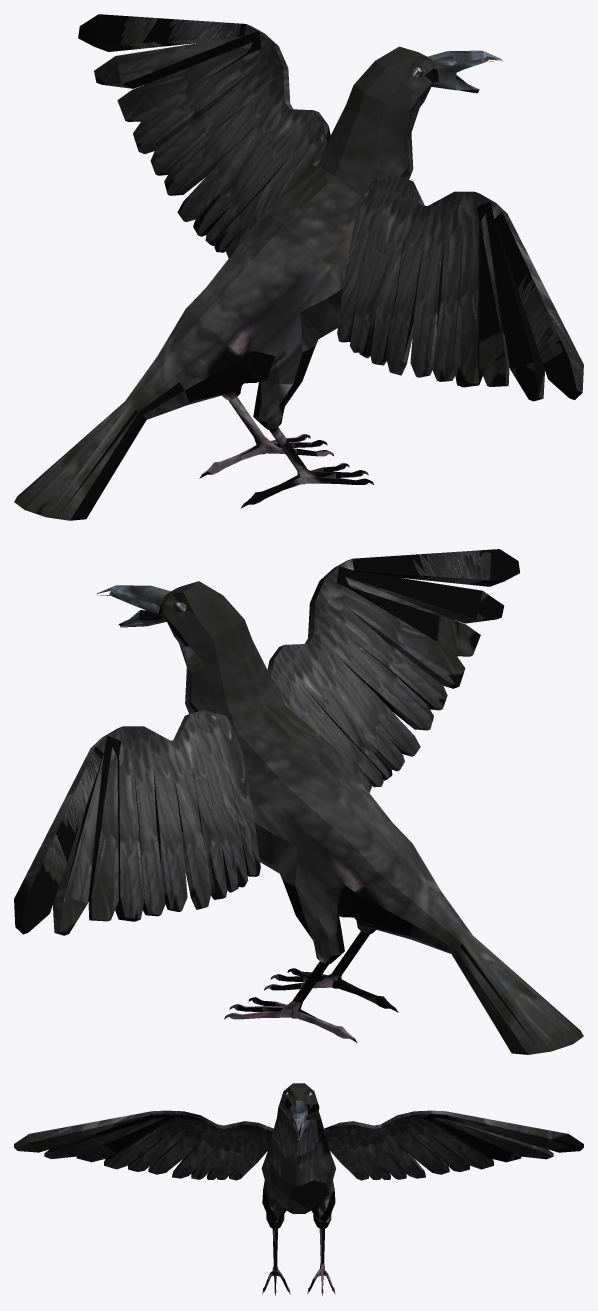
The model's file is crowTextureAnim_000020.obj.
3 renders of one model, top to bottom at view 1: azimuth 30°, elevation 25°; view 2: azimuth 150°, elevation 25°; view 3: azimuth 270°, elevation 25°, orthographic. The views are drawn at different scales.
Visible parts, largest first — view 1: Cylinder.001, Cylinder.003, Cylinder.002; view 2: Cylinder.001, Cylinder.002, Cylinder.003; view 3: Cylinder.002, Cylinder.003, Cylinder.001.
Boxes of the visible parts, <box> form: Cylinder.001: <box>14,46,502,520</box>; Cylinder.003: <box>337,175,583,401</box>; Cylinder.002: <box>78,14,330,258</box>; Cylinder.001: <box>97,581,583,1054</box>; Cylinder.002: <box>14,710,260,935</box>; Cylinder.003: <box>267,549,519,792</box>; Cylinder.002: <box>324,1110,583,1180</box>; Cylinder.003: <box>14,1110,273,1180</box>; Cylinder.001: <box>261,1083,335,1295</box>.
Size of the model in its own units: 5.22 by 4.1 by 9.33.
